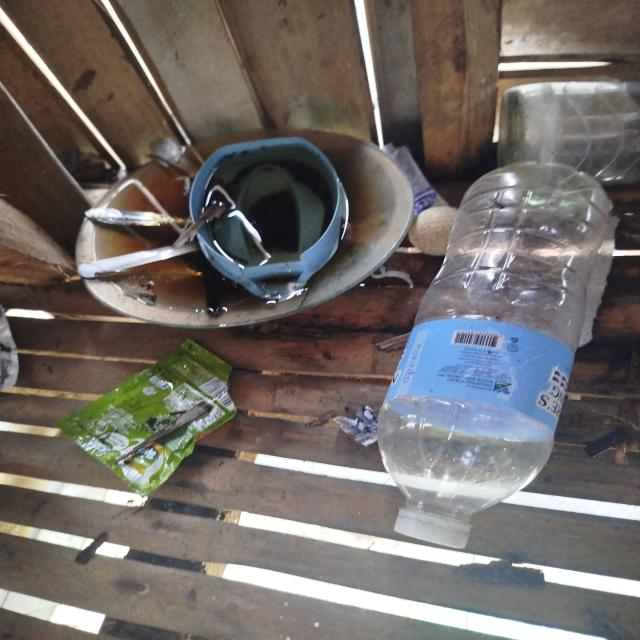plastic: (367, 155, 625, 556)
residual: (51, 341, 255, 518)
